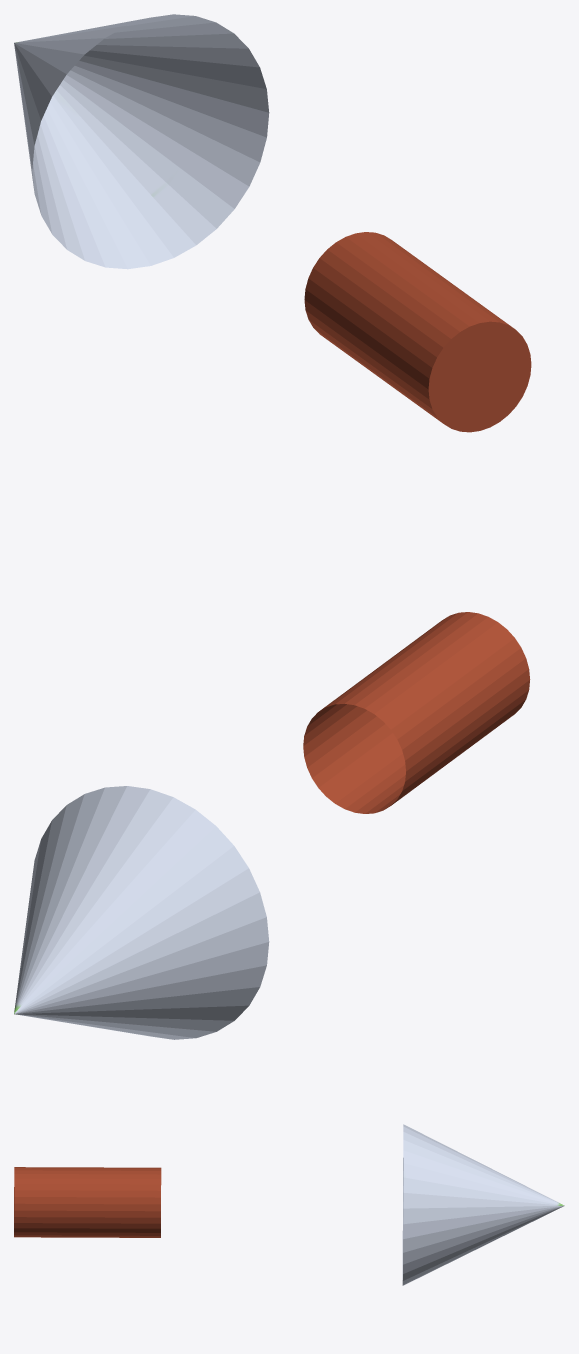
The model's file is snow tree.fbx.
The picture shows the model from 3 angles, top to bottom: view 1: azimuth 30°, elevation 25°; view 2: azimuth 150°, elevation 25°; view 3: azimuth 270°, elevation 25°; orthographic projection. The views are drawn at different scales.
Visible parts, largest first — view 1: Cylinder; view 2: Cylinder; view 3: Cylinder.
Boxes of the visible parts, x1=… form: Cylinder: x1=14, y1=14, x2=531, y2=432; Cylinder: x1=14, y1=612, x2=530, y2=1039; Cylinder: x1=14, y1=1124, x2=564, y2=1285.
Bounding box in the file's own units: 7.88 × 7.88 × 15.96.
Materials: 1 (1 with a texture image).
